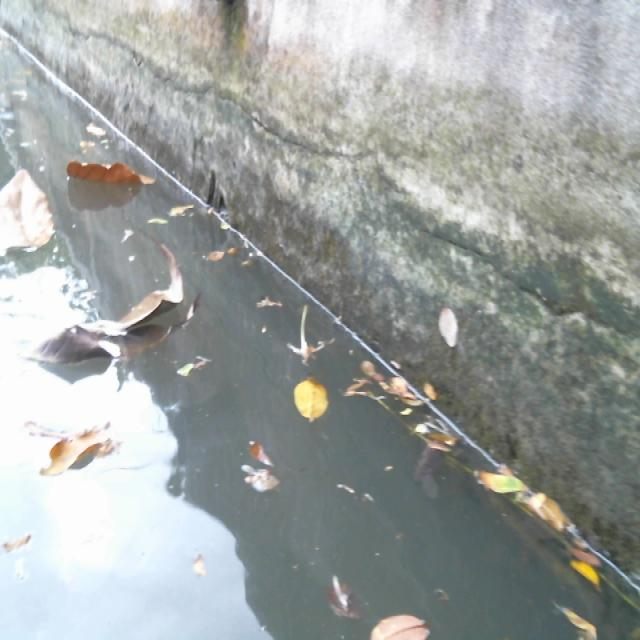Big-leaf: (22, 256, 198, 378), (30, 403, 120, 487), (0, 157, 50, 263), (68, 154, 160, 191)
Small-leaf: (512, 482, 593, 557), (360, 598, 445, 640), (557, 599, 622, 640), (294, 376, 337, 428), (322, 565, 363, 619), (235, 467, 291, 506), (472, 456, 520, 499), (172, 350, 234, 381), (385, 369, 424, 406), (241, 434, 280, 468), (0, 534, 44, 563), (568, 557, 605, 586), (86, 114, 117, 145), (165, 197, 202, 219)
